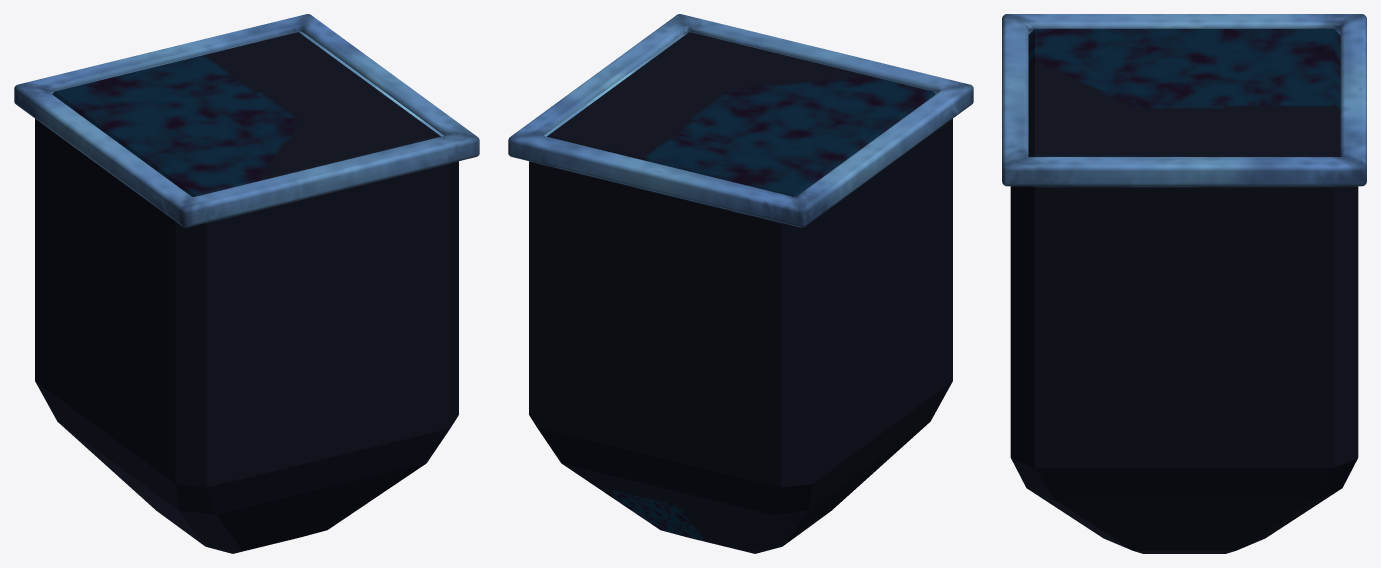
Rendered from ZapBlockBase.fbx.
The picture shows the model from 3 angles, left to right: view 1: azimuth 30°, elevation 25°; view 2: azimuth 150°, elevation 25°; view 3: azimuth 270°, elevation 25°; orthographic projection. The views are drawn at different scales.
Visible parts, largest first — view 1: Cube, Plane; view 2: Cube, Plane; view 3: Cube, Plane.
Part boxes in pixels (<box>): Cube: <box>35,32,458,553</box>; Plane: <box>14,14,479,227</box>; Cube: <box>529,32,952,553</box>; Plane: <box>508,14,973,227</box>; Cube: <box>1010,29,1358,553</box>; Plane: <box>1002,14,1366,186</box>.
Size of the model in its own units: 210 by 284 by 210.
Materials: 2 (2 with a texture image).
